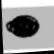correct: (3, 11, 42, 43)
